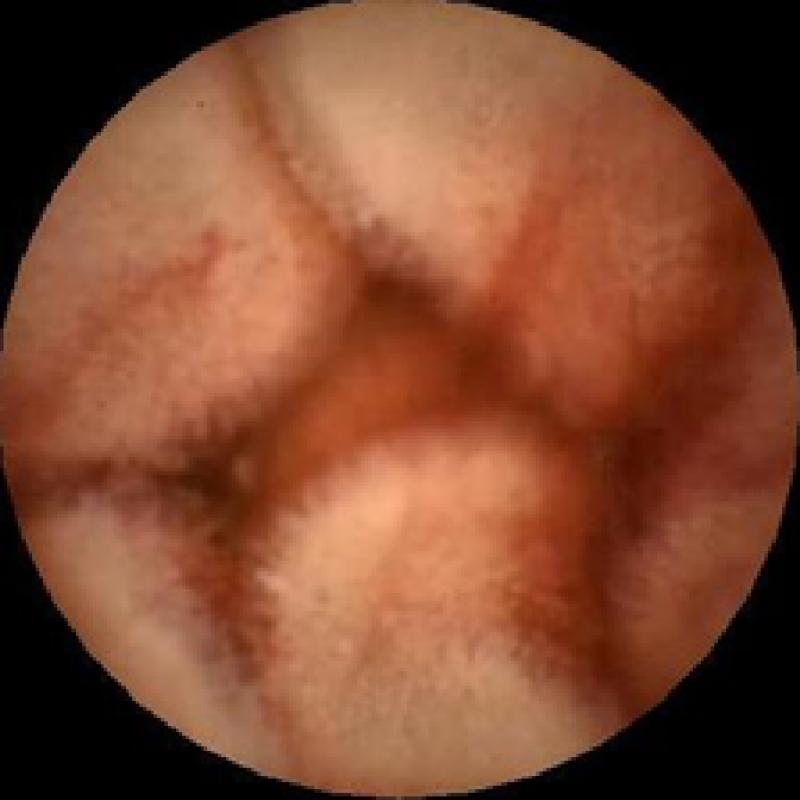bleeding: (146, 68, 674, 686)
